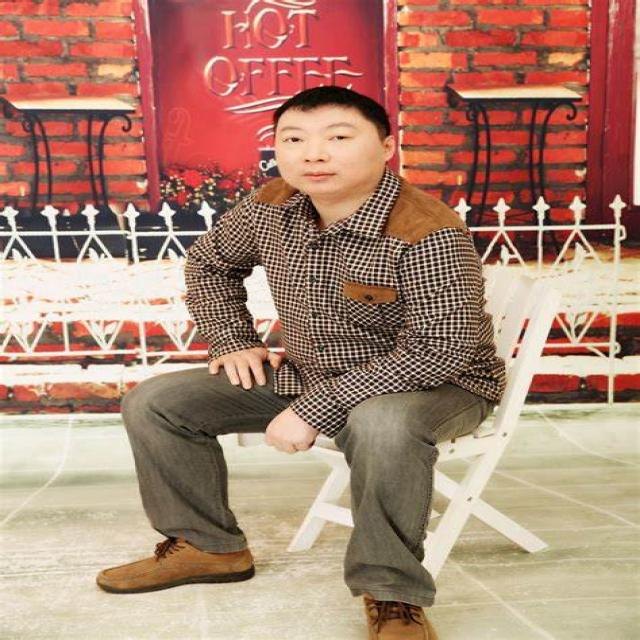sit: (100, 61, 516, 640)
